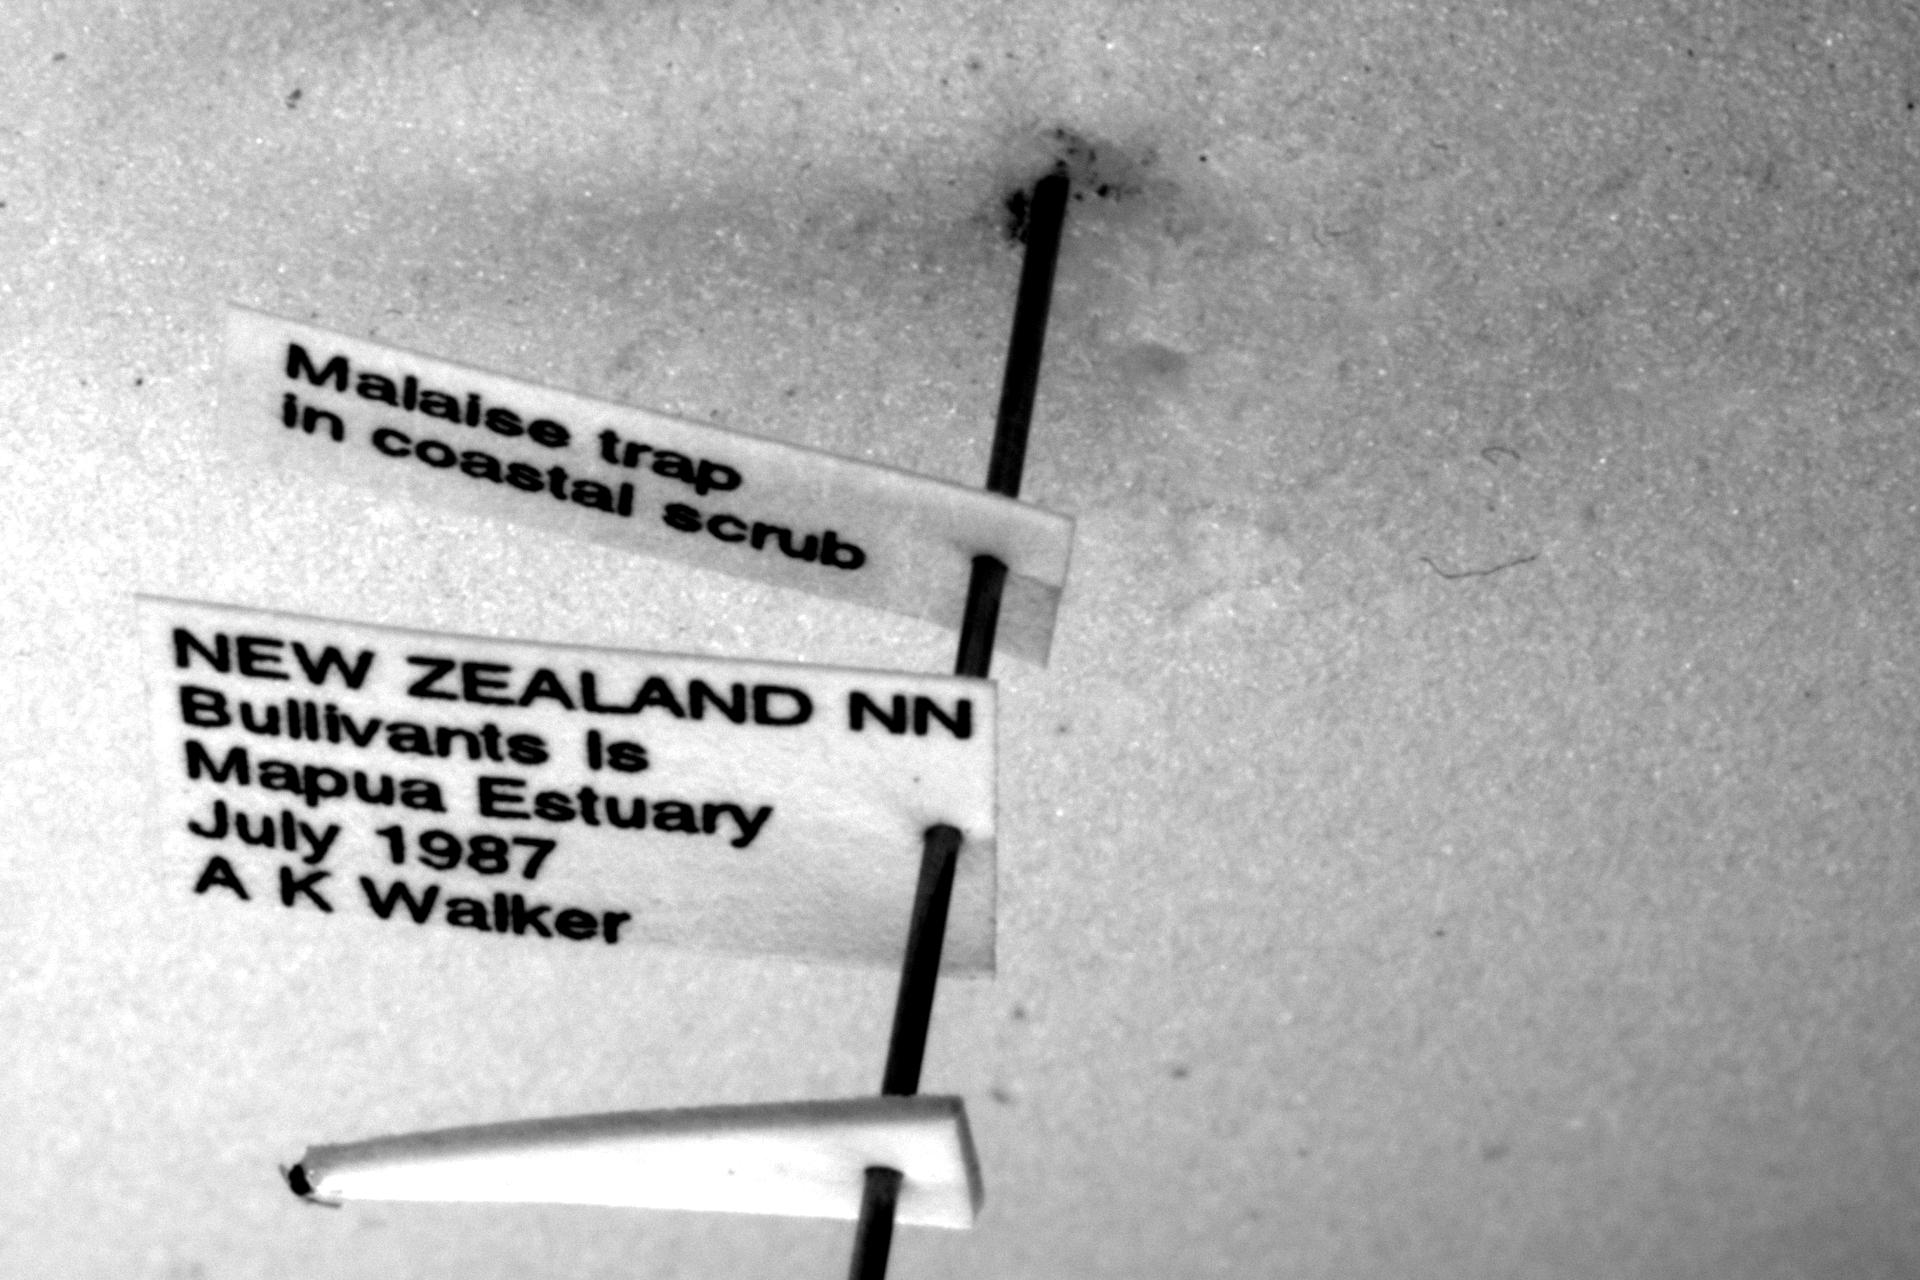typed_label: (139, 596, 994, 974), (221, 307, 1073, 664)
